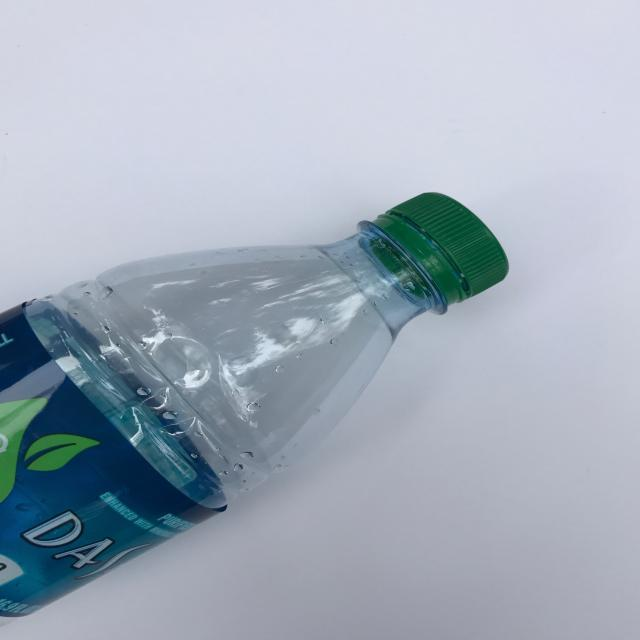plastic: (0, 190, 509, 639)
